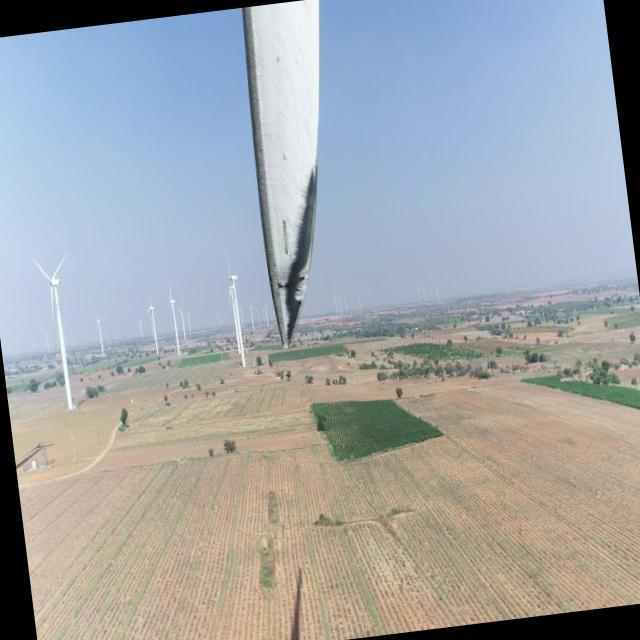Oil LEAKAGE: (285, 174, 319, 344)
Pin Hole: (271, 278, 307, 294), (279, 150, 295, 165), (271, 50, 285, 67)
